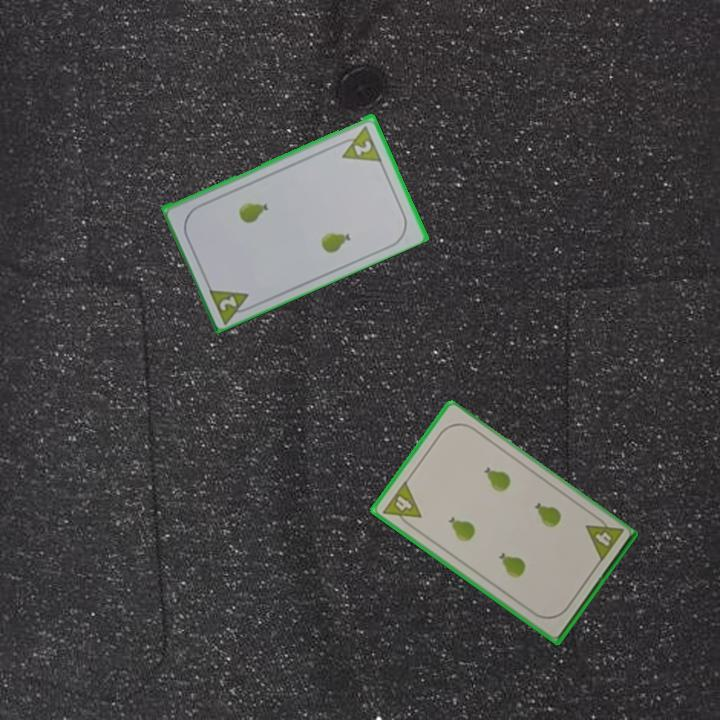2p: (205, 283, 258, 325), (333, 121, 384, 164)
4p: (379, 477, 424, 532), (582, 511, 626, 565)
